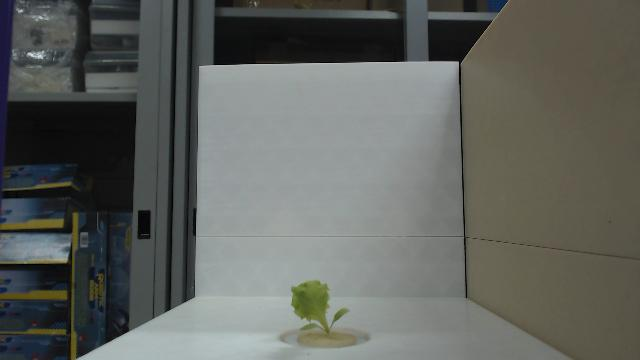Seedling Stage: (289, 278, 351, 338)
